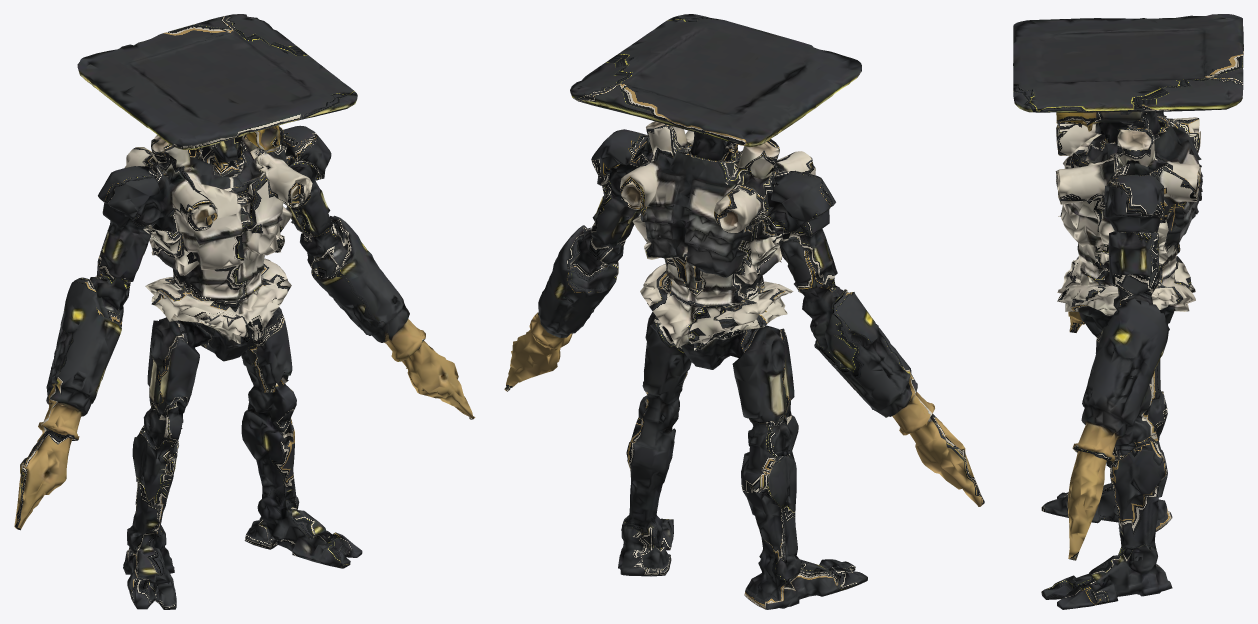
File: statue-4.glb
The picture shows the model from 3 angles, left to right: view 1: azimuth 30°, elevation 25°; view 2: azimuth 150°, elevation 25°; view 3: azimuth 270°, elevation 25°; orthographic projection. The views are drawn at different scales.
Parts seen in each view (by area): view 1: body; view 2: body; view 3: body.
Boxes of the visible parts, bbox=[...] form: body: bbox=[14, 14, 475, 609]; body: bbox=[504, 14, 984, 609]; body: bbox=[1013, 14, 1243, 609].
Size of the model in its own units: 0.9797 by 0.9999 by 0.4145.
Materials: 1 (1 with a texture image).
